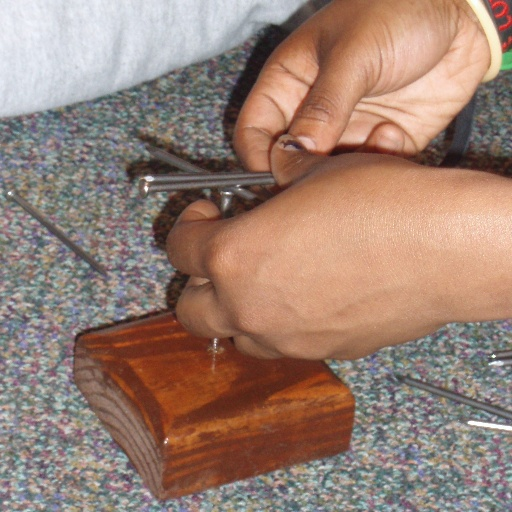hand: (164, 131, 511, 362), (218, 0, 510, 179)
